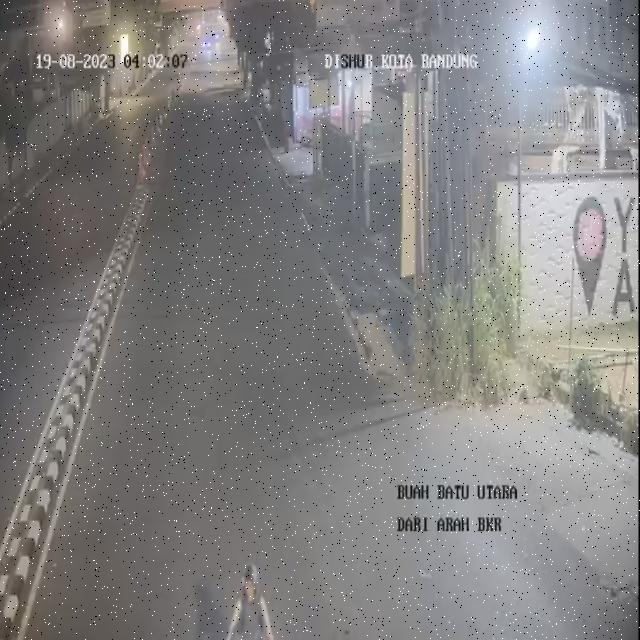motorcycle: (207, 557, 292, 640)
